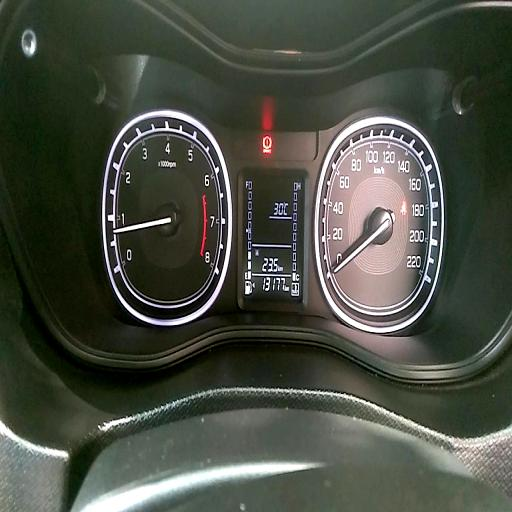belt: (400, 201, 408, 216)
brake_system_fault: (262, 134, 272, 150)
tachometer: (102, 108, 233, 324)
